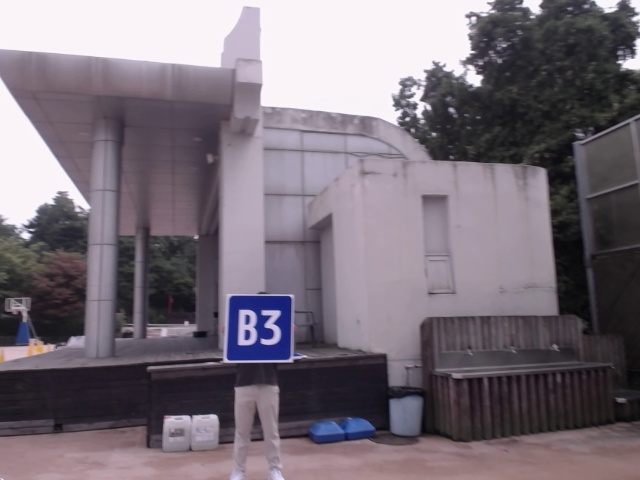delivery_b3: (227, 292, 293, 360)
